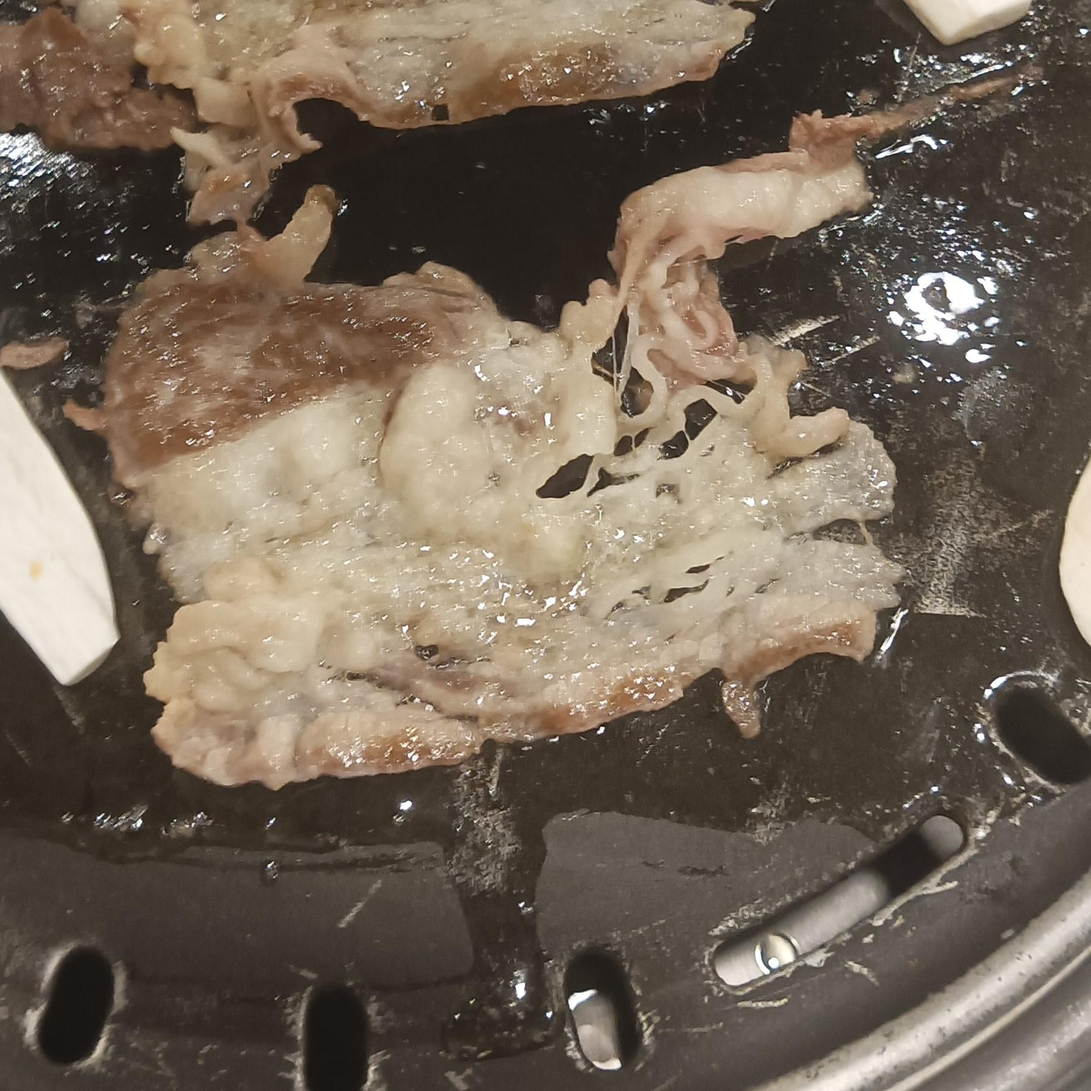Well-Cooked: (60, 188, 893, 792), (131, 0, 752, 167)
